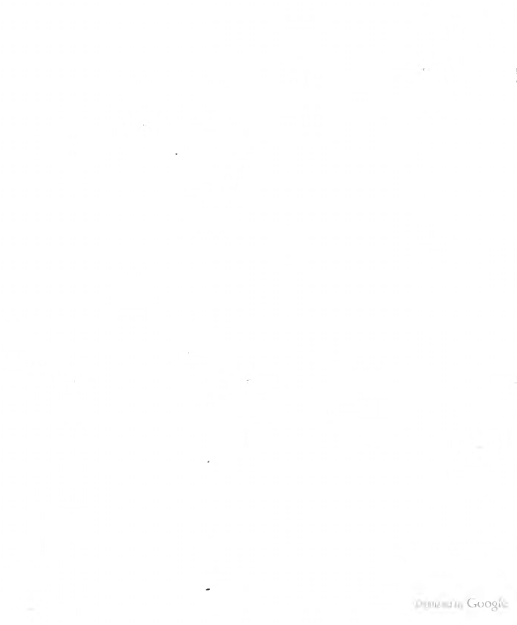NoiseZone: (395, 579, 517, 625)
